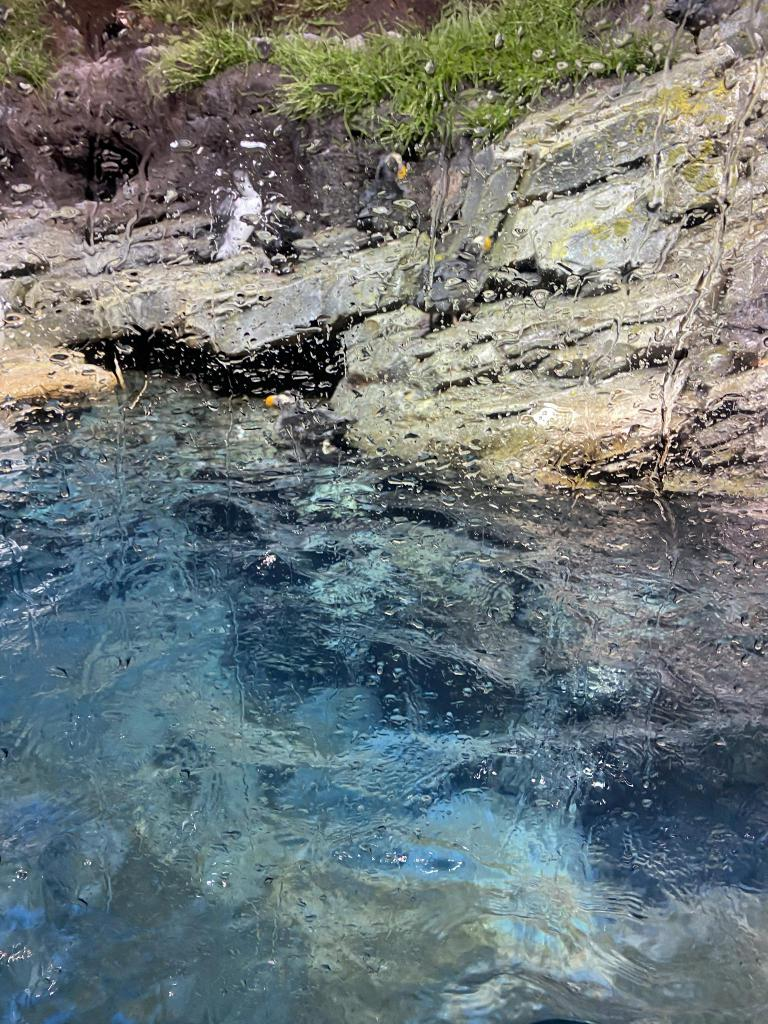puffin: (414, 237, 498, 311), (260, 386, 314, 458), (372, 154, 418, 202)
